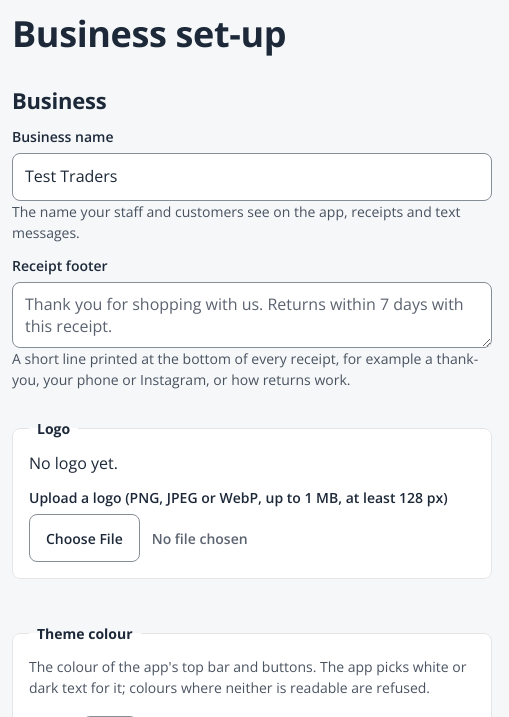
Test: the set-up hints and module wording › explains the receipt footer and previews the bottom of a receipt
The width and height of the screenshot is (509, 717).
expect the text with id "footer-hint" shows "A short line printed at the bottom of every receipt": met, box [12, 349, 478, 389]
Replace the text in the text box labelled "Receipt footer" with "Thank you, call 0700 000000" at (252, 315), box [12, 282, 492, 348]
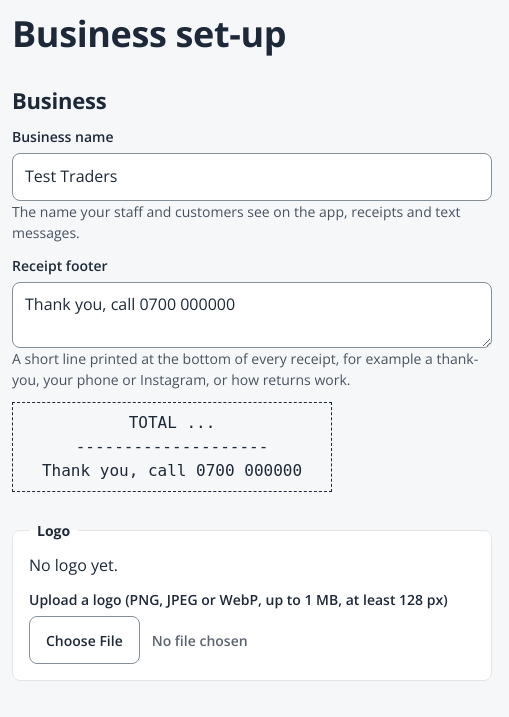
expect the element named "Bottom of a receipt" shows "Thank you, call 0700 000000": met, box [42, 461, 302, 480]
